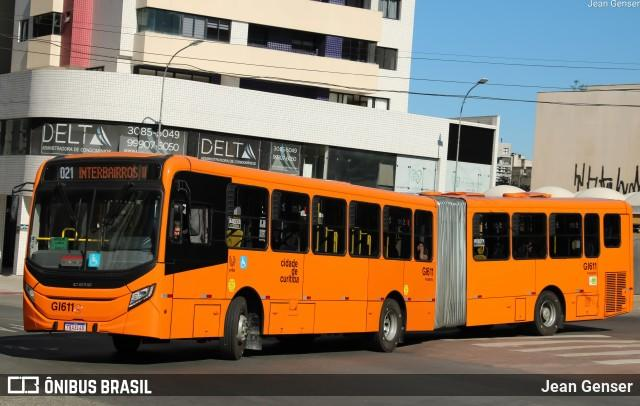INTERBAIRROS II: (76, 163, 153, 182)
